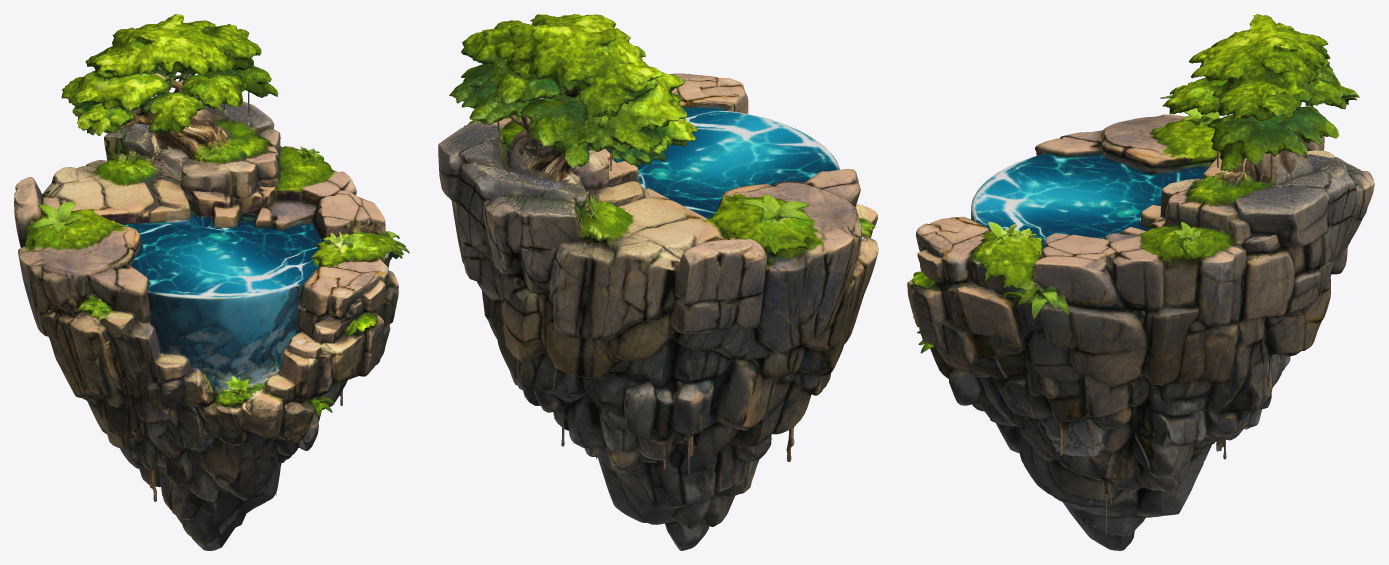
Rendered from Floating_Stone_Island.glb.
3 renders of one model, left to right at view 1: azimuth 30°, elevation 25°; view 2: azimuth 150°, elevation 25°; view 3: azimuth 270°, elevation 25°, orthographic. The views are drawn at different scales.
Visible parts, largest first — view 1: Floating_Stone_Island; view 2: Floating_Stone_Island; view 3: Floating_Stone_Island.
Boxes of the visible parts, x1,y1,x2,y2 form: Floating_Stone_Island: [14, 14, 409, 550]; Floating_Stone_Island: [438, 14, 878, 550]; Floating_Stone_Island: [907, 14, 1374, 550].
Size of the model in its own units: 1.37 by 1.91 by 1.52.
1 material, 1 textured.
